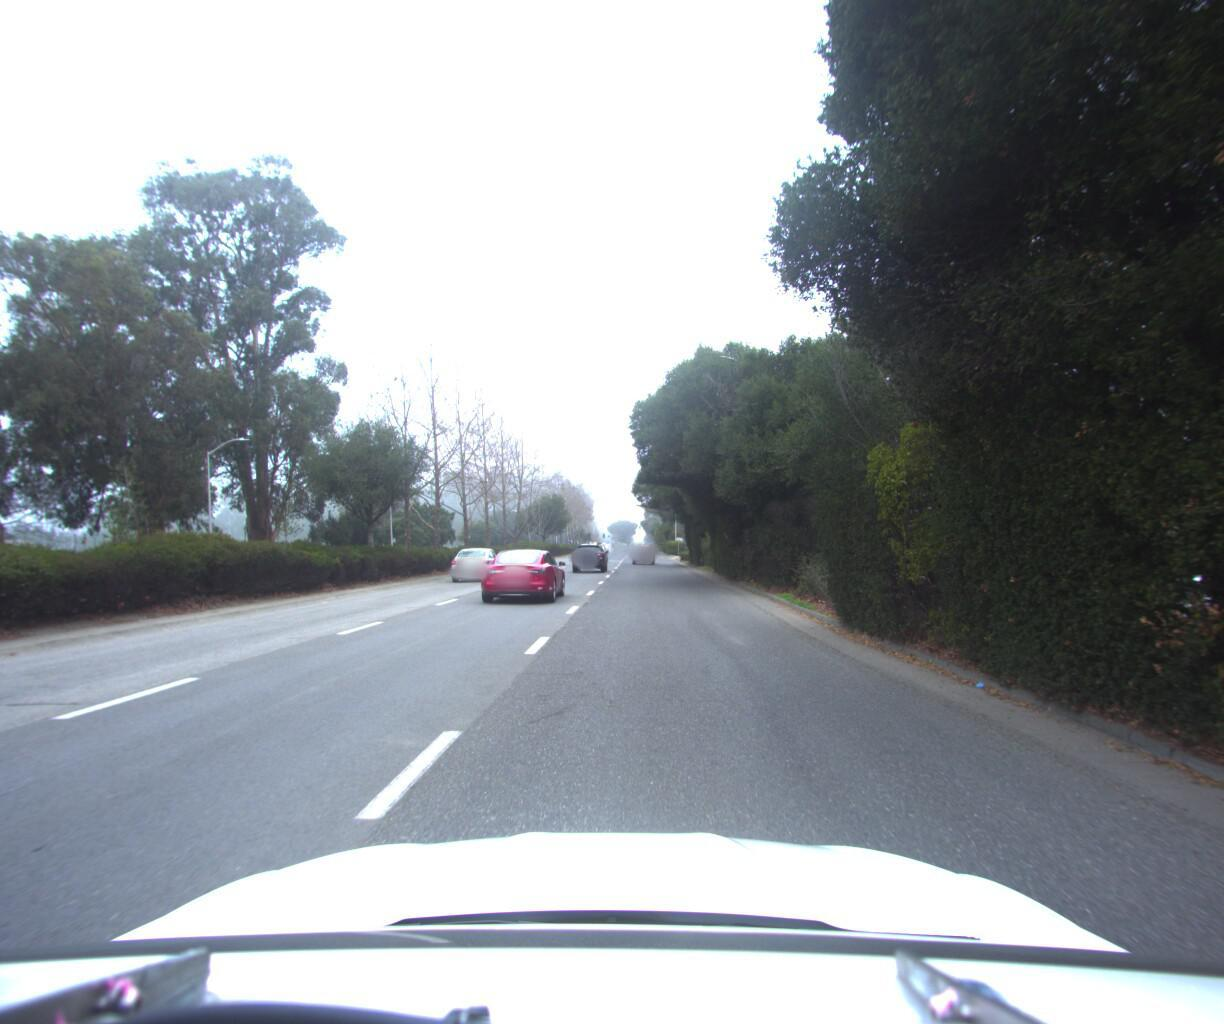car: (475, 543, 568, 603), (449, 541, 506, 578), (568, 535, 606, 566), (630, 533, 654, 557)
